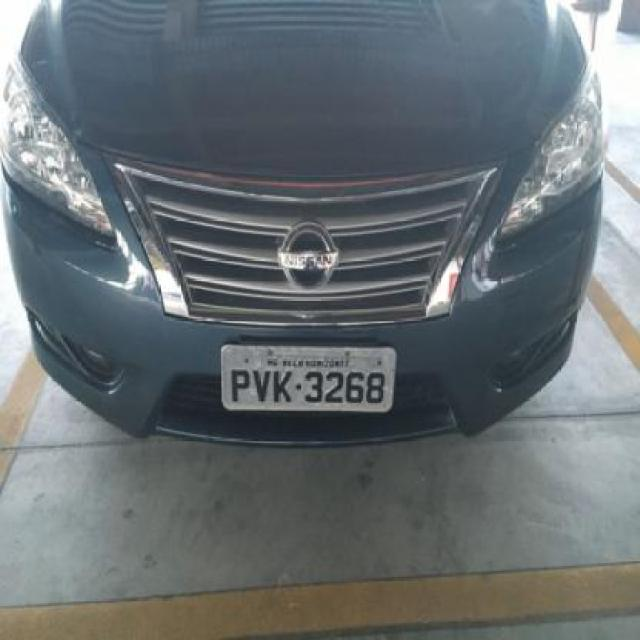old_plate: (215, 337, 402, 418)
